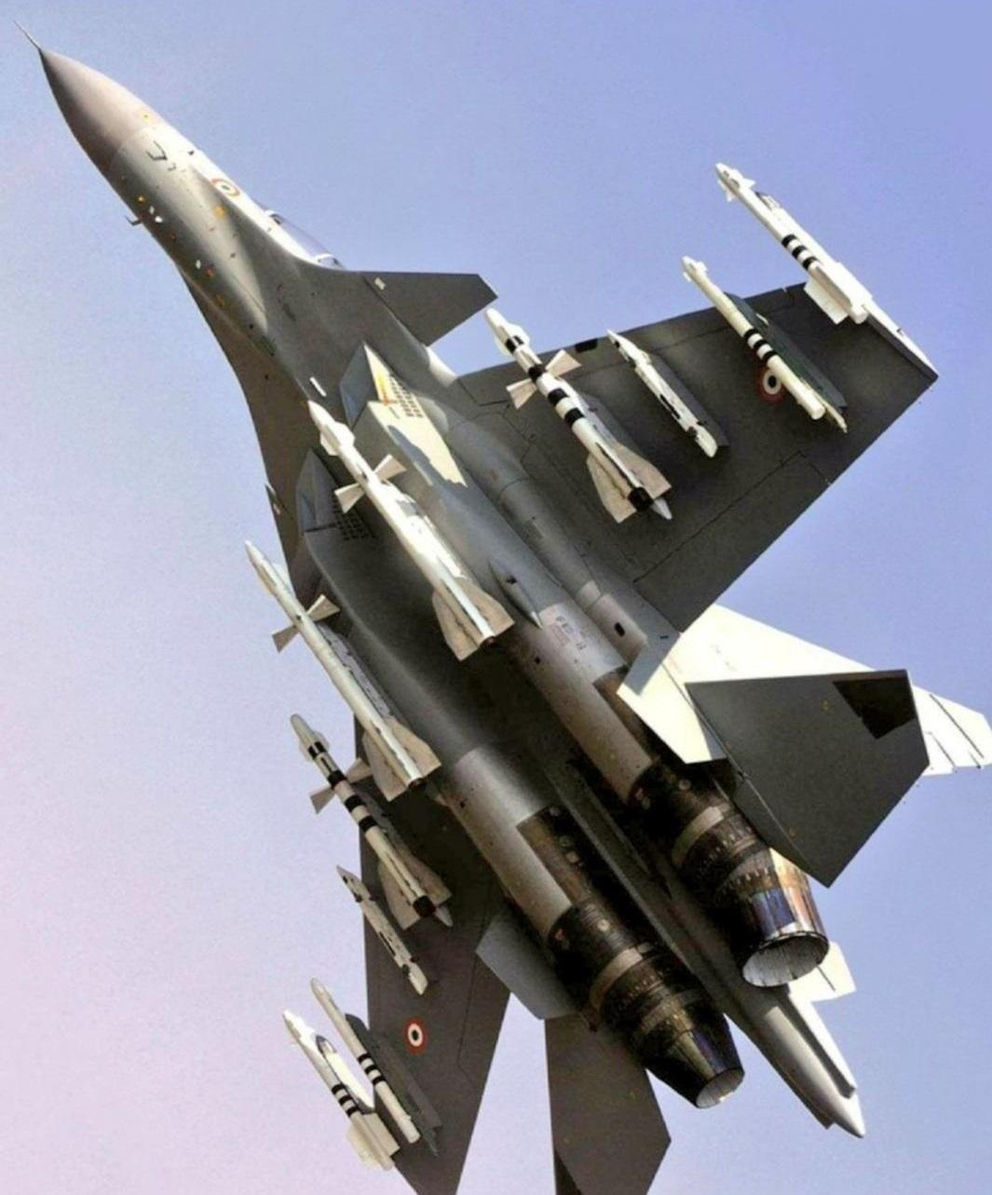aircraft: (29, 27, 958, 1070)
